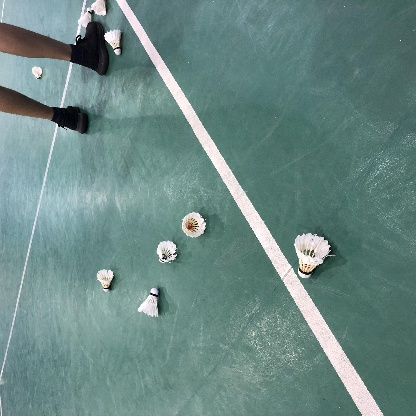ball_single: (294, 233, 331, 278), (137, 288, 159, 317), (182, 212, 206, 238), (103, 29, 122, 55), (157, 241, 177, 263), (97, 269, 114, 292), (78, 7, 92, 28), (91, 0, 106, 16), (32, 67, 42, 79)
